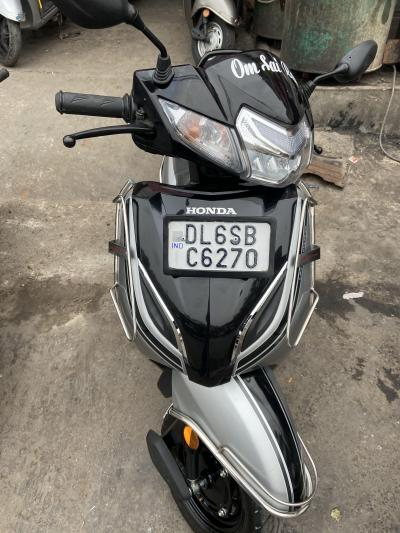doublelinenumberplate: (161, 214, 276, 275)
